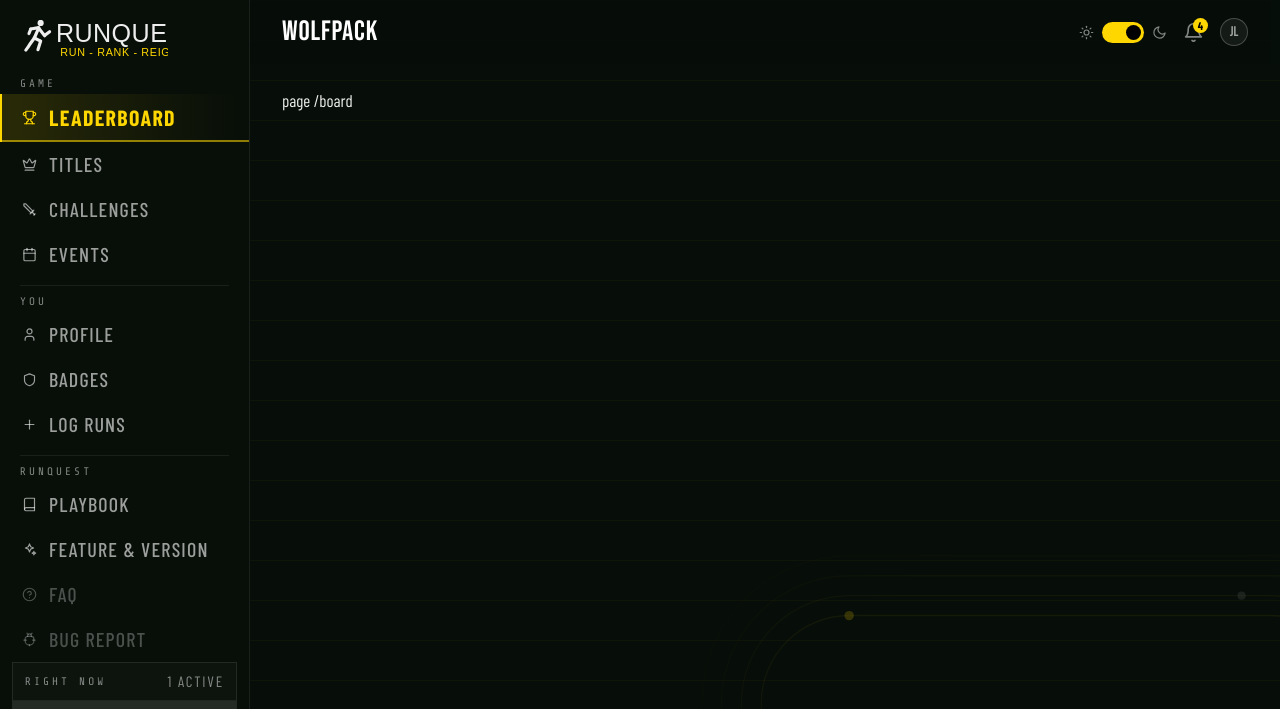
popovern › Mark all read: räknaren nollas direkt, POST med högsta id, bekräftelse i live-region med fokus
The width and height of the screenshot is (1280, 709).
Click the button "4" at x=1194, y=32, box [1183, 22, 1204, 42]
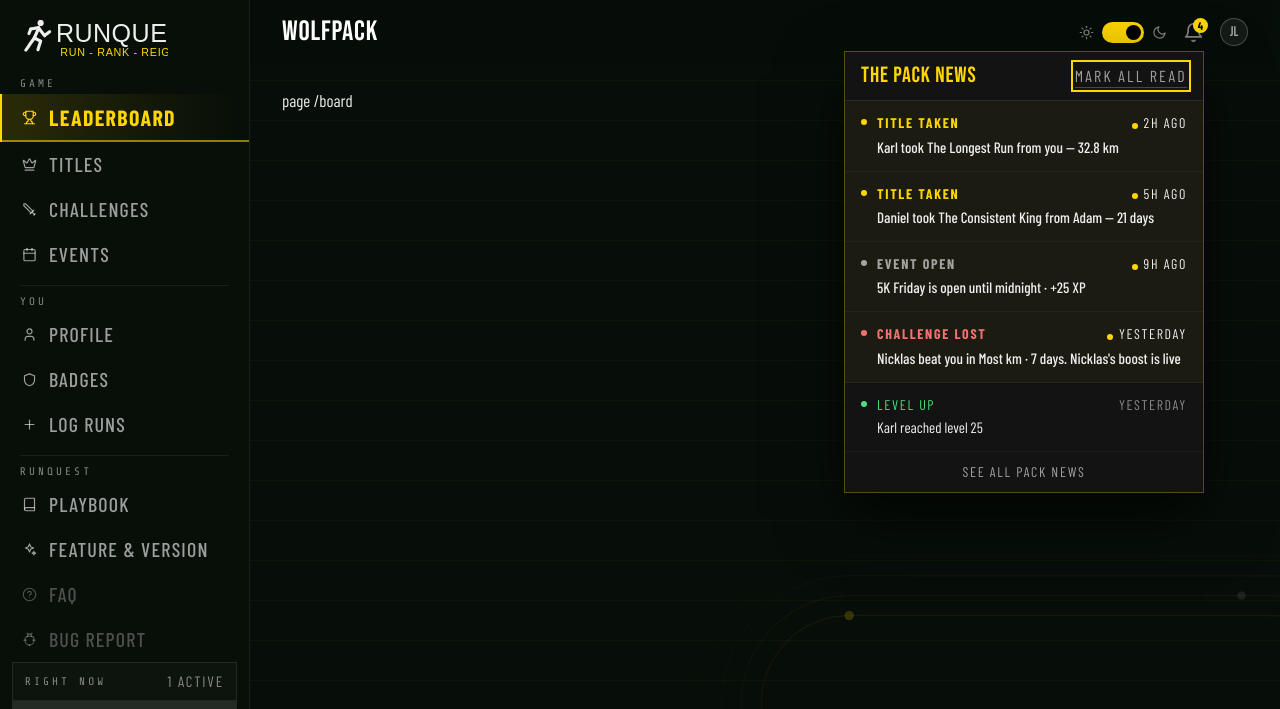
Click the button "Mark all read" at x=1131, y=76, box [1075, 64, 1187, 88]
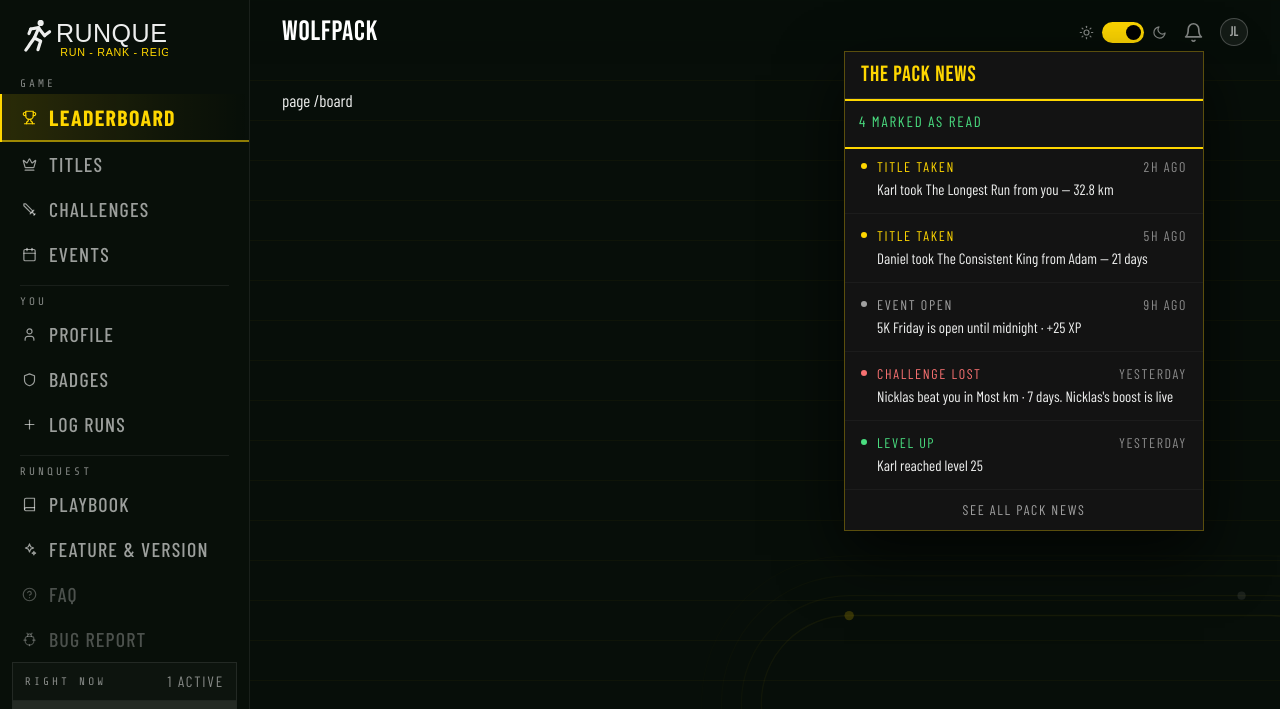
Expected: the message reads "4 marked as read", [859, 112, 982, 130]
Expected: the button "Mark all read" is gone
Expected: no elements with class "rq-news-unread" are shown
